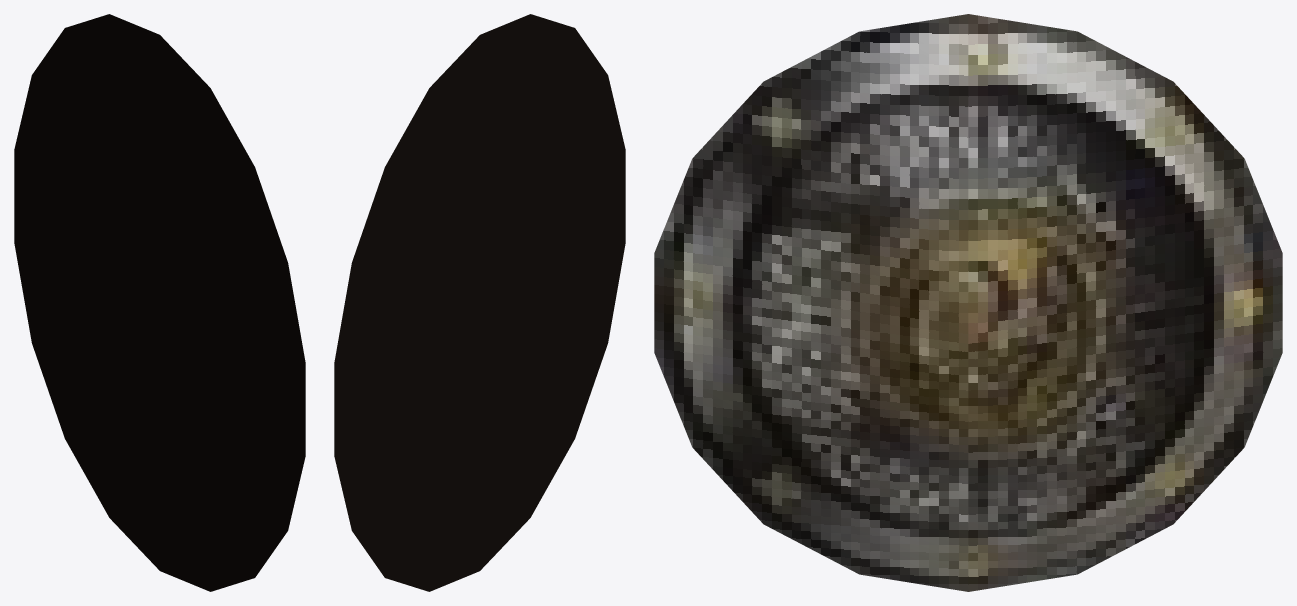
The model's file is Shield11.glb.
The picture shows the model from 3 angles, left to right: view 1: azimuth 30°, elevation 25°; view 2: azimuth 150°, elevation 25°; view 3: azimuth 270°, elevation 25°; orthographic projection. The views are drawn at different scales.
Parts seen in each view (by area): view 1: model_Shield11; view 2: model_Shield11; view 3: model_Shield11.
Part boxes in pixels (left/top/right/bottom): model_Shield11: left=14, top=14, right=305, bottom=591; model_Shield11: left=334, top=14, right=625, bottom=591; model_Shield11: left=654, top=14, right=1282, bottom=591.
Size of the model in its own units: 0.0999 by 0.6564 by 0.6465.
1 material, 1 textured.
